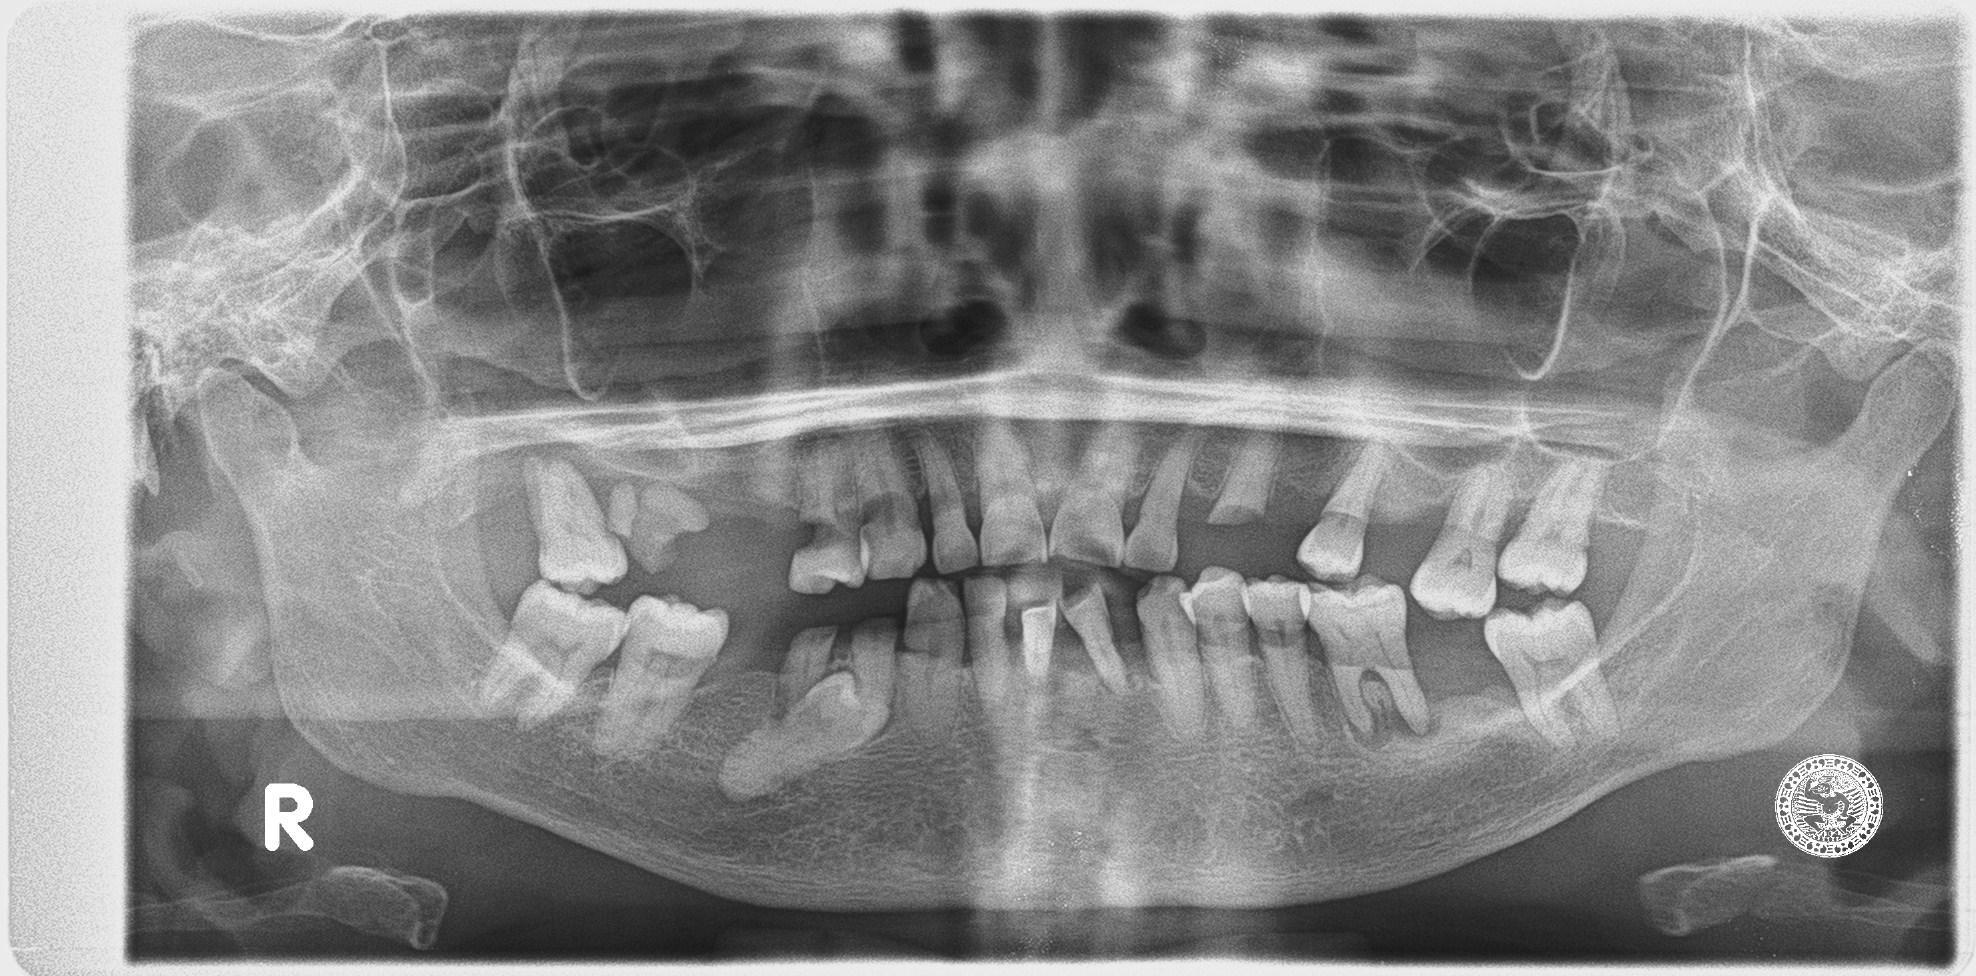Individual Tooth: (473, 579, 631, 726), (590, 595, 726, 757), (720, 670, 888, 799), (1301, 578, 1429, 731), (1485, 600, 1618, 748), (1409, 462, 1515, 617), (1182, 567, 1272, 734), (1498, 460, 1602, 594), (1048, 422, 1140, 567), (528, 458, 626, 593), (1241, 580, 1322, 741), (1298, 444, 1387, 583), (790, 439, 864, 593), (1138, 578, 1206, 736), (975, 421, 1048, 566), (899, 578, 967, 733), (857, 430, 926, 579), (1122, 433, 1193, 572), (914, 430, 978, 572), (611, 484, 709, 572), (1059, 583, 1127, 692), (963, 572, 1014, 706), (847, 619, 899, 744), (1207, 433, 1278, 523), (781, 627, 838, 715), (1021, 601, 1056, 676)
